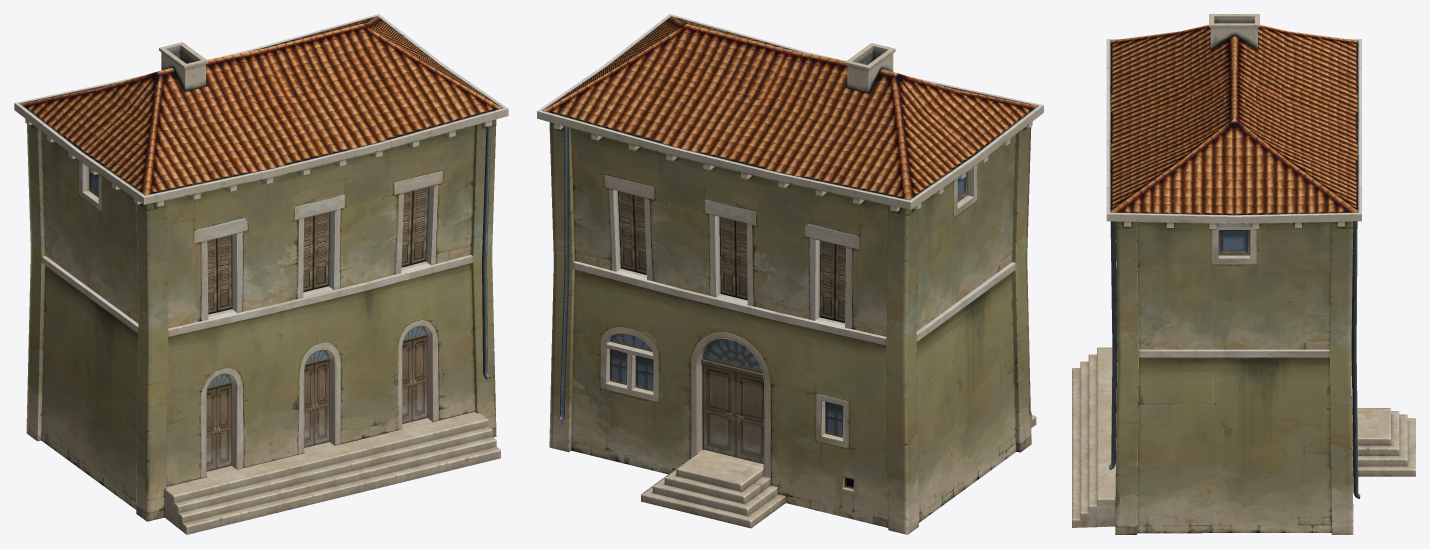
Rendered from townhousemedium3.fbx.
3 renders of one model, left to right at view 1: azimuth 30°, elevation 25°; view 2: azimuth 150°, elevation 25°; view 3: azimuth 270°, elevation 25°, orthographic. The views are drawn at different scales.
Parts seen in each view (by area): view 1: GEOM0_LOD0; view 2: GEOM0_LOD0; view 3: GEOM0_LOD0.
Part boxes in pixels (box(x1,y1,x2,y2)): GEOM0_LOD0: box(14, 14, 508, 534); GEOM0_LOD0: box(537, 14, 1043, 534); GEOM0_LOD0: box(1072, 14, 1415, 534).
Size of what is drawn, in the model's own units: 1052 by 1106 by 872.
